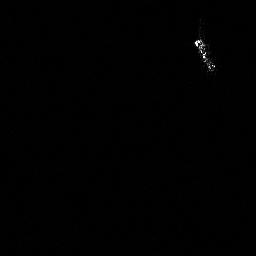ship: (191, 36, 217, 73)
